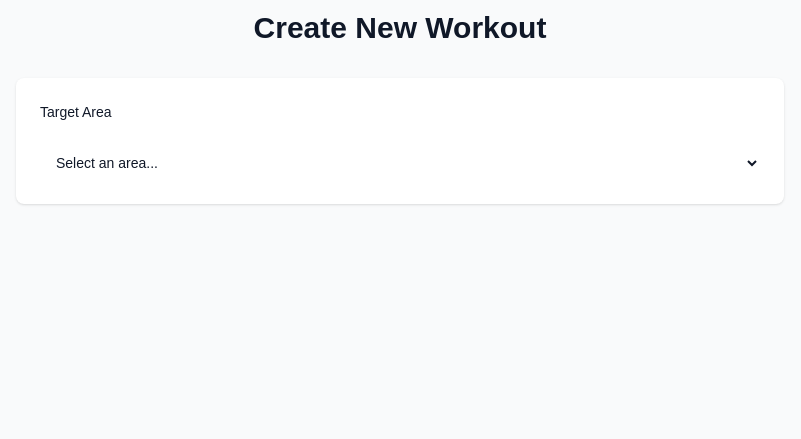
CreateWorkout Page › allows selecting an area
Select "Push" in the dropdown labelled "Target Area" at (400, 163), box [40,146,760,180]
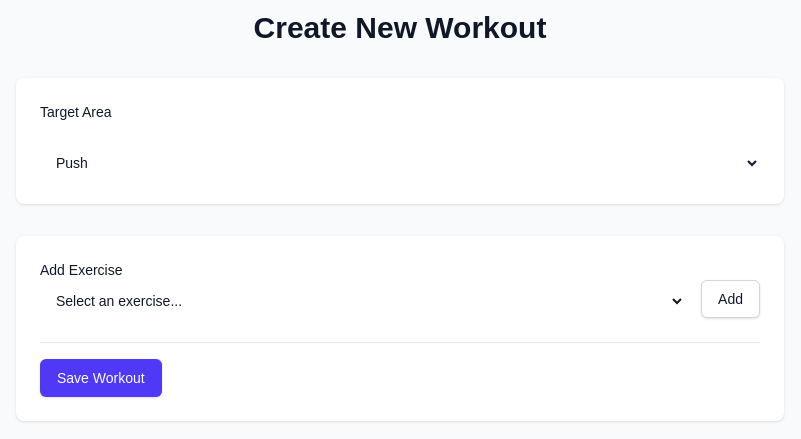
Result: the text "Add Exercise" is shown at [40,262,122,278]
Result: the dropdown labelled "Add Exercise" is shown at [40,284,685,318]
